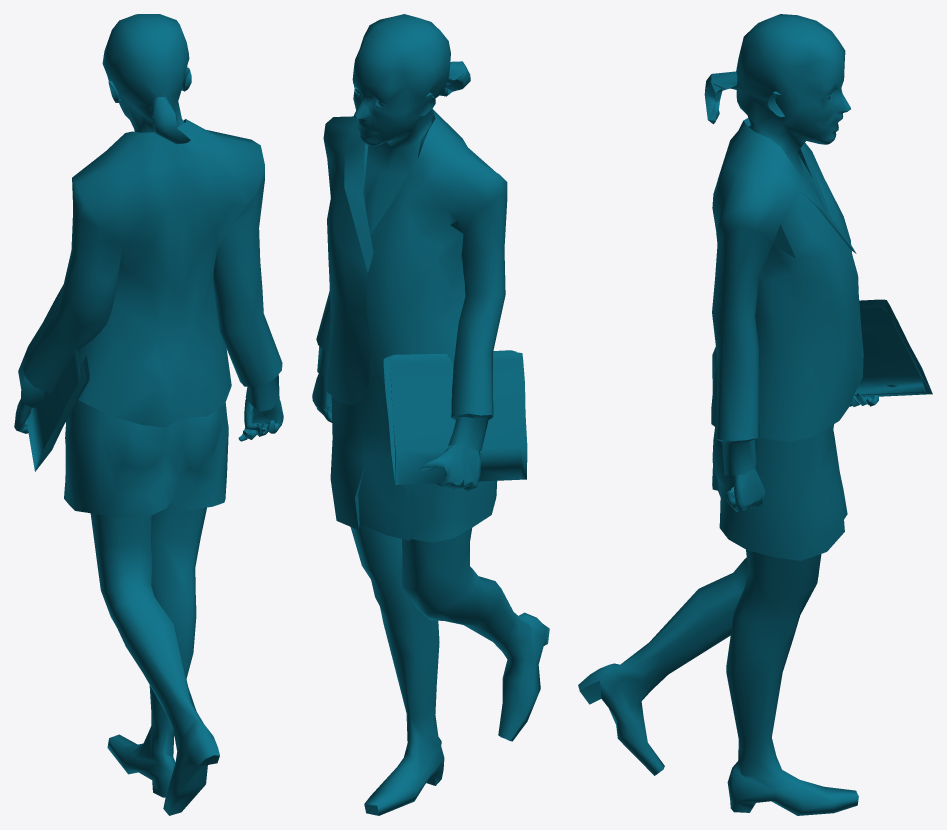
3 views of the same model, side by side, from view 1: azimuth 30°, elevation 25°; view 2: azimuth 150°, elevation 25°; view 3: azimuth 270°, elevation 25° (orthographic). The views are drawn at different scales.
Visible parts, largest first — view 1: BWom0004_Wa; view 2: BWom0004_Wa; view 3: BWom0004_Wa.
Part boxes in pixels (left/top/right/bottom): BWom0004_Wa: left=14, top=14, right=283, bottom=815; BWom0004_Wa: left=312, top=14, right=549, bottom=815; BWom0004_Wa: left=578, top=14, right=932, bottom=815.
Bounding box in the file's own units: 13.54 × 42.79 × 17.41.
